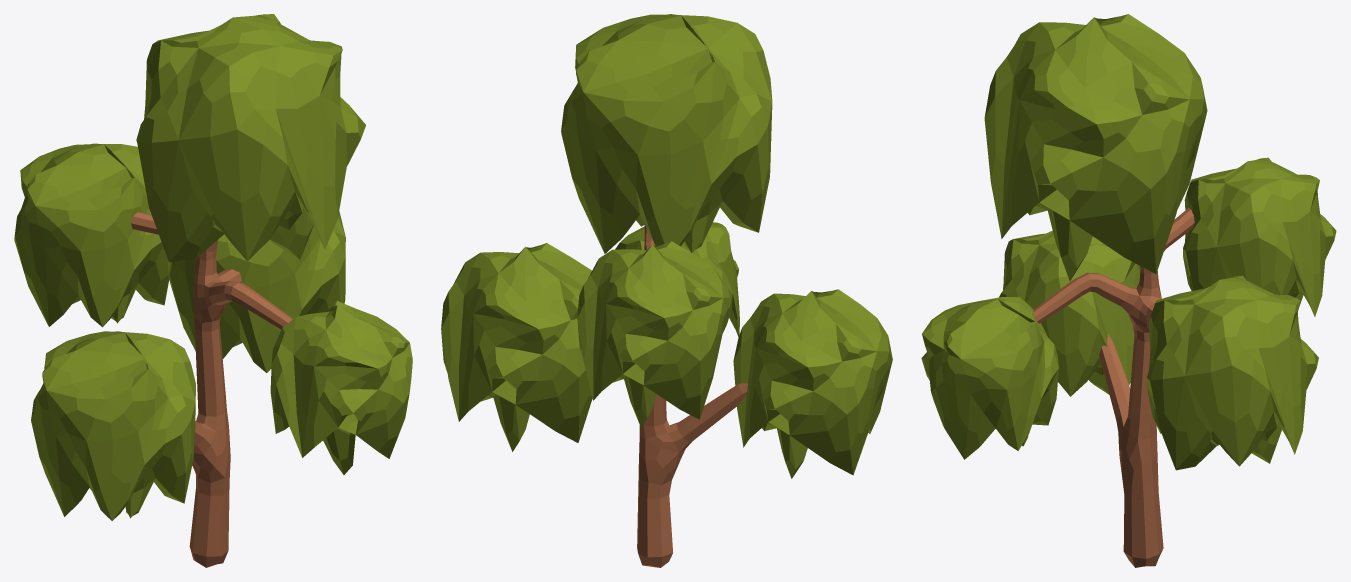
Rendered from Willow.fbx.
The picture shows the model from 3 angles, left to right: view 1: azimuth 30°, elevation 25°; view 2: azimuth 150°, elevation 25°; view 3: azimuth 270°, elevation 25°; orthographic projection. The views are drawn at different scales.
Parts seen in each view (by area): view 1: Leafes, trunk; view 2: Leafes, trunk; view 3: Leafes, trunk.
Boxes of the visible parts, bbox=[...] form: Leafes: bbox=[14, 14, 412, 520]; trunk: bbox=[131, 212, 292, 567]; Leafes: bbox=[441, 14, 892, 478]; trunk: bbox=[637, 224, 747, 567]; Leafes: bbox=[921, 14, 1336, 470]; trunk: bbox=[1033, 208, 1194, 567].
Bounding box in the file's own units: 527 × 767 × 526.
